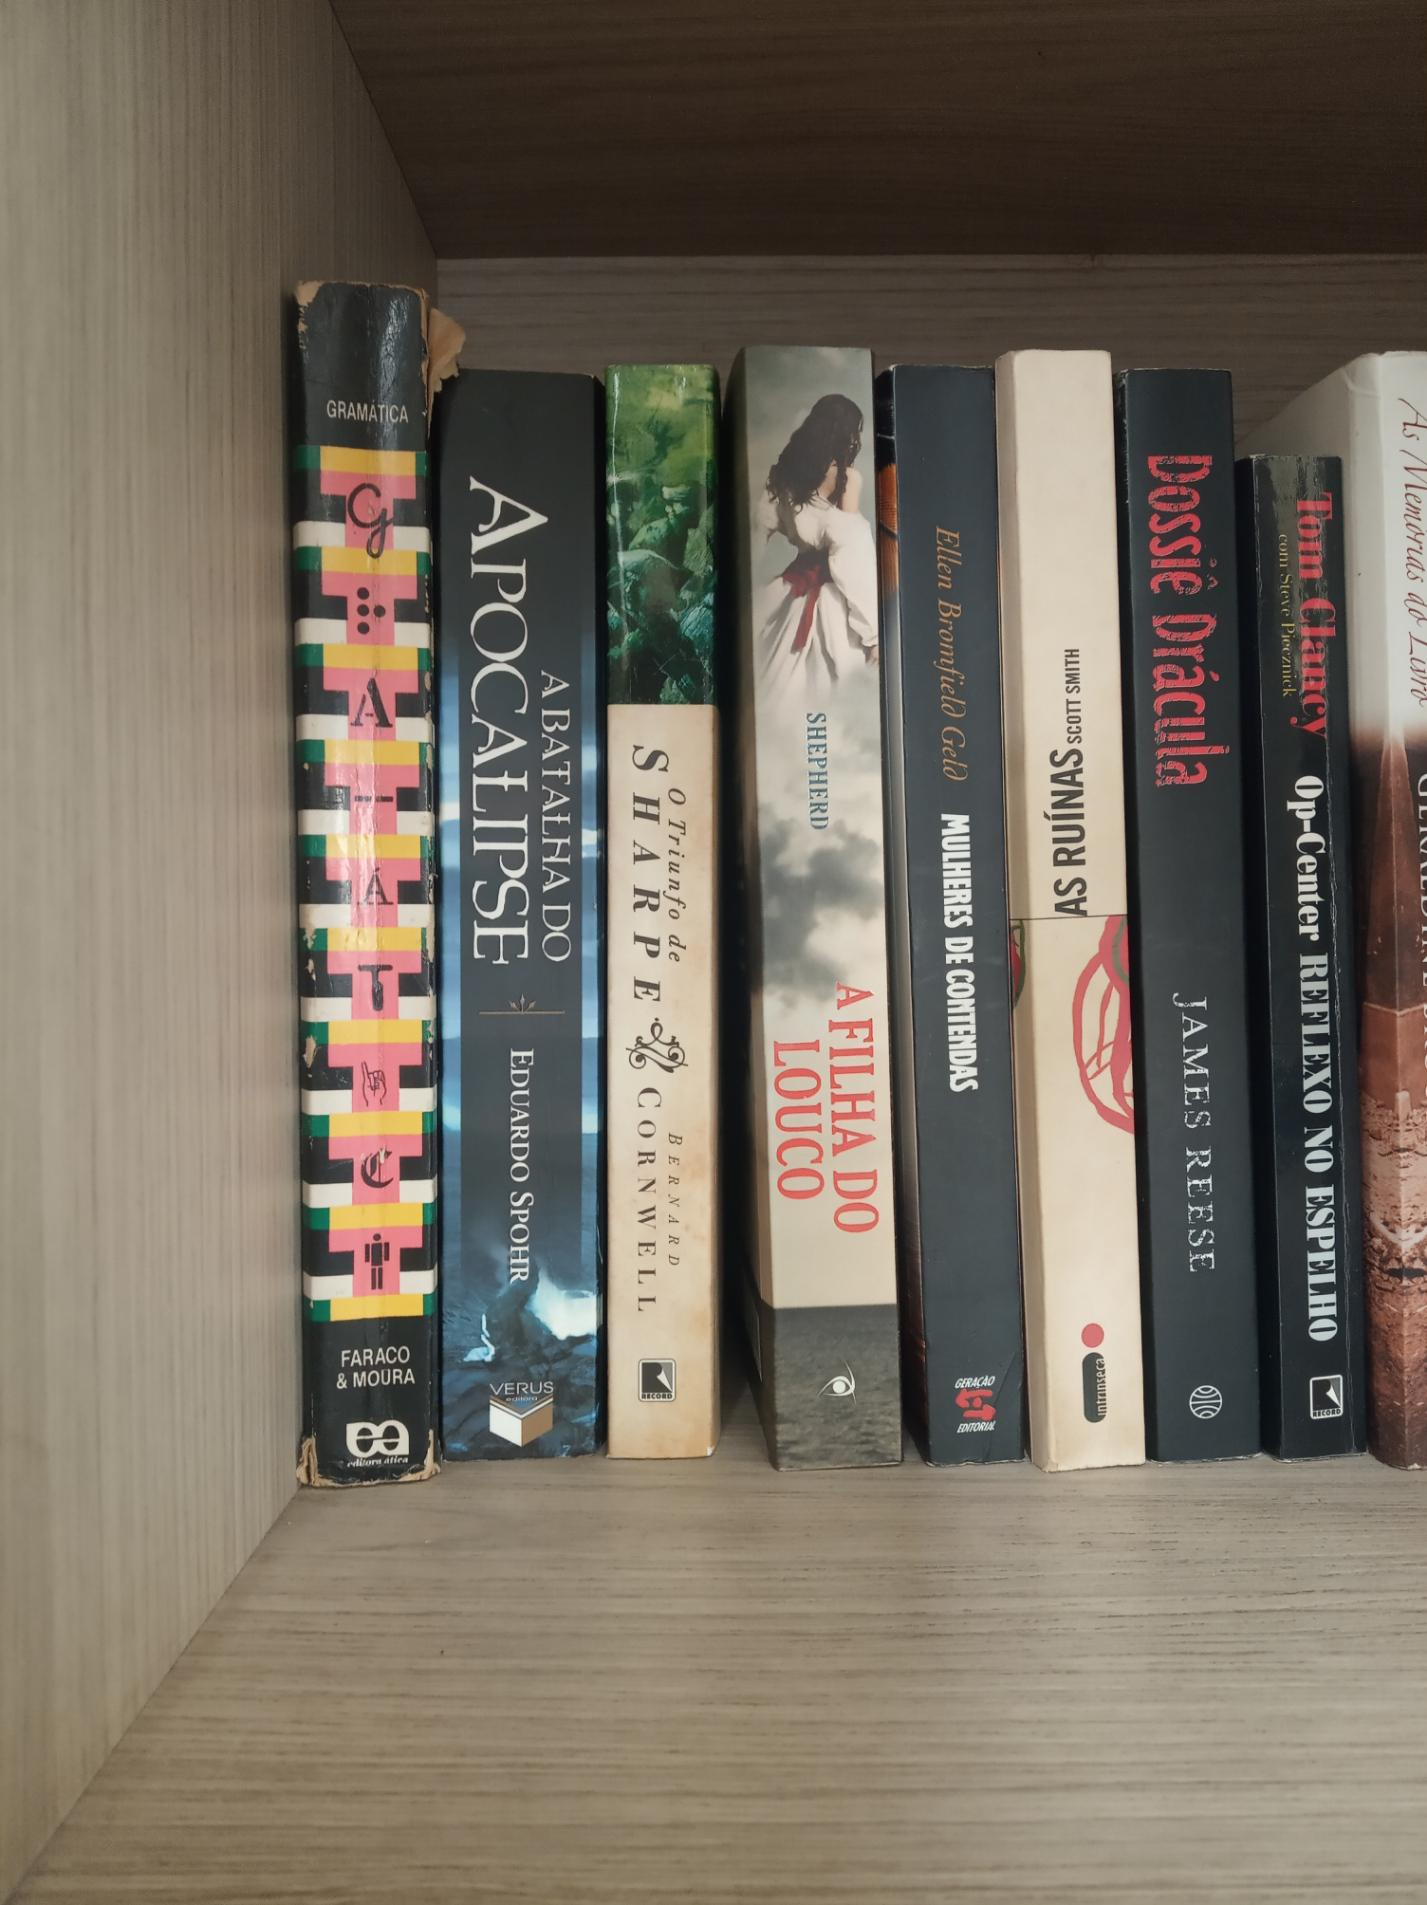book: (453, 381, 600, 1455), (289, 295, 409, 1472), (612, 375, 702, 1458), (775, 360, 865, 1443), (1270, 393, 1360, 1476), (910, 370, 1000, 1452), (1024, 370, 1114, 1452), (1153, 369, 1243, 1451)
